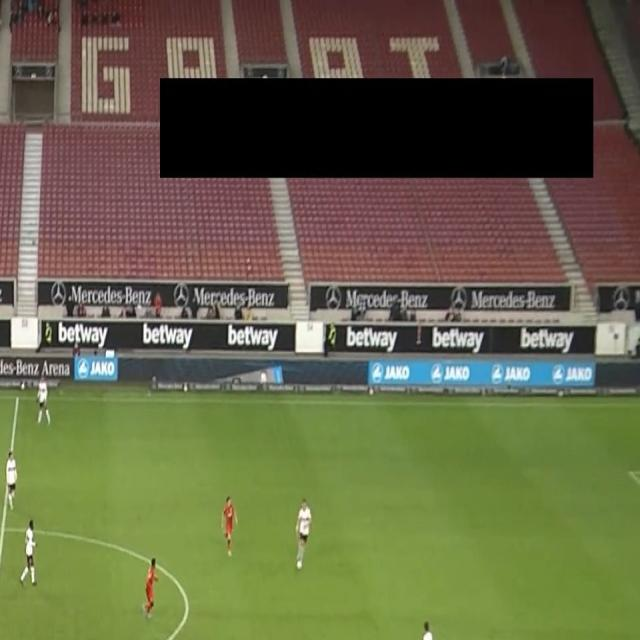ball: (296, 557, 303, 570)
